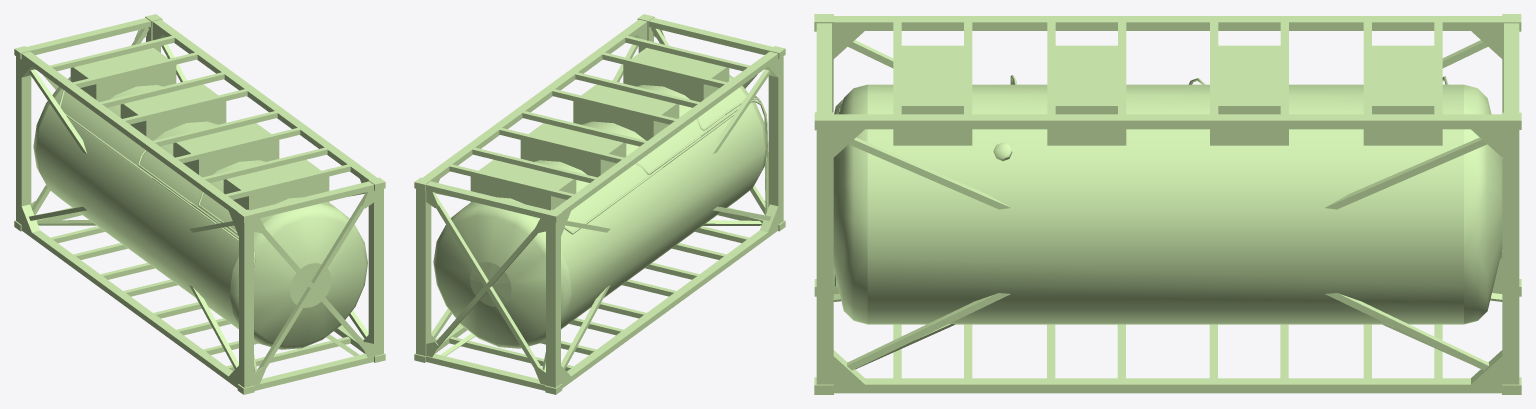
The model's file is tankframe1.fbx.
The picture shows the model from 3 angles, left to right: view 1: azimuth 30°, elevation 25°; view 2: azimuth 150°, elevation 25°; view 3: azimuth 270°, elevation 25°; orthographic projection. The views are drawn at different scales.
Parts seen in each view (by area): view 1: AA_HeatedFrameTank_KN_SMesh; view 2: AA_HeatedFrameTank_KN_SMesh; view 3: AA_HeatedFrameTank_KN_SMesh.
Part boxes in pixels (x1,y1,x2,y2): AA_HeatedFrameTank_KN_SMesh: (14,14,385,394); AA_HeatedFrameTank_KN_SMesh: (414,14,785,394); AA_HeatedFrameTank_KN_SMesh: (814,14,1521,394).
Size of the model in its own units: 337 by 404 by 944.
